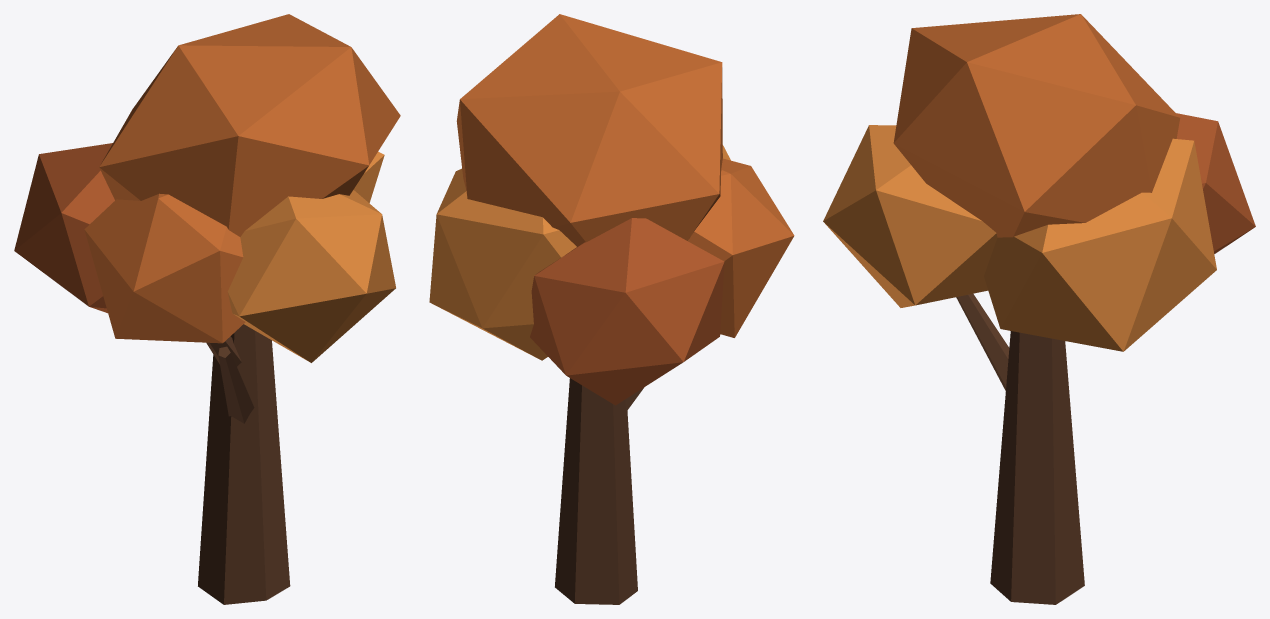
File: tree_0.glb
3 renders of one model, left to right at view 1: azimuth 30°, elevation 25°; view 2: azimuth 150°, elevation 25°; view 3: azimuth 270°, elevation 25°, orthographic. The views are drawn at different scales.
Parts seen in each view (by area): view 1: tree_0; view 2: tree_0; view 3: tree_0.
Part boxes in pixels (<box>): tree_0: <box>14,14,400,604</box>; tree_0: <box>429,14,794,604</box>; tree_0: <box>823,14,1255,604</box>.
Bounding box in the file's own units: 1.34 × 2.27 × 1.58.
